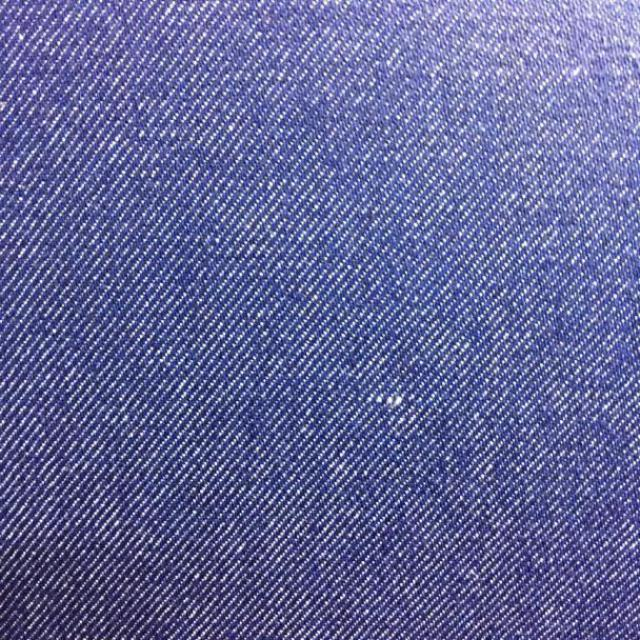Knot: (369, 395, 405, 410)
